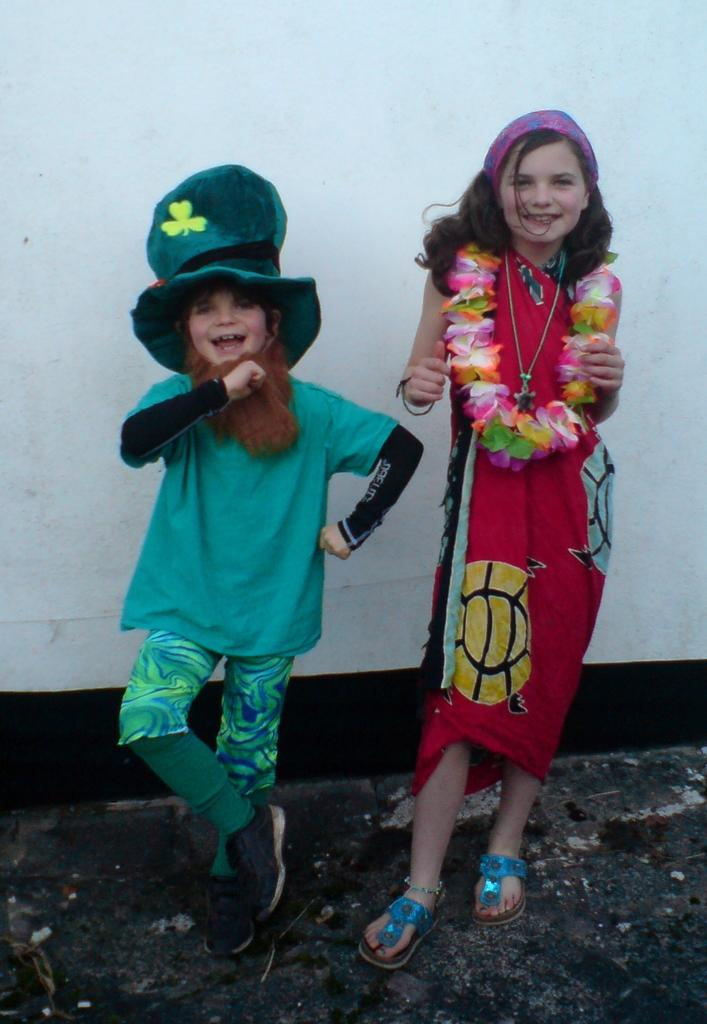Hat: (132, 158, 324, 378)
